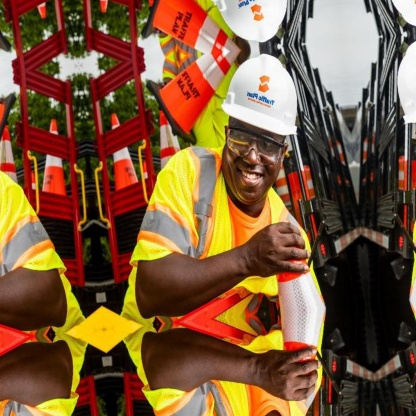vest: (105, 135, 315, 322)
white: (216, 48, 306, 148)
